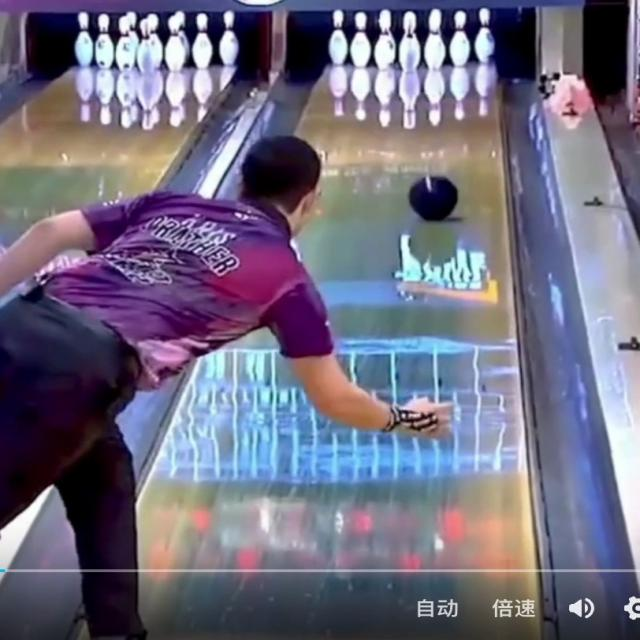alley: (139, 64, 539, 639)
balls: (410, 175, 458, 221)
bottle: (329, 8, 493, 69)
